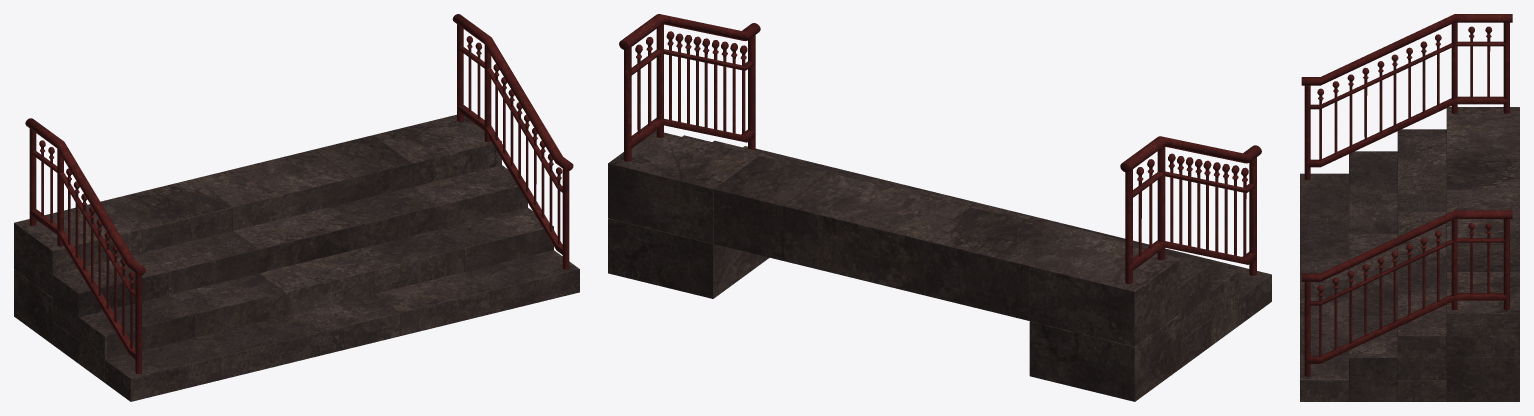
Rendered from SK3 STAIR EXT.fbx.
3 renders of one model, left to right at view 1: azimuth 30°, elevation 25°; view 2: azimuth 150°, elevation 25°; view 3: azimuth 270°, elevation 25°, orthographic. The views are drawn at different scales.
Visible parts, largest first — view 1: SK3 STAIR EXT; view 2: SK3 STAIR EXT; view 3: SK3 STAIR EXT.
Part boxes in pixels (<box>): SK3 STAIR EXT: <box>14,14,579,401</box>; SK3 STAIR EXT: <box>608,14,1271,401</box>; SK3 STAIR EXT: <box>1300,14,1519,401</box>.
Size of the model in its own units: 400 by 169 by 180.
